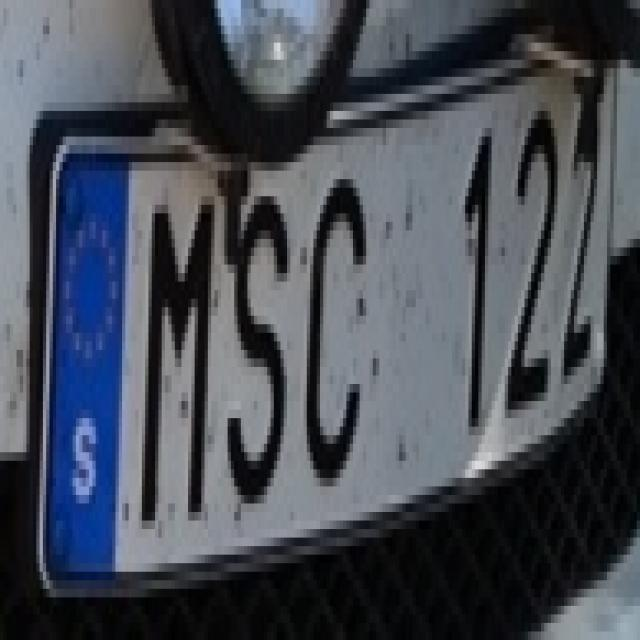licenseplate: (25, 25, 638, 601)
